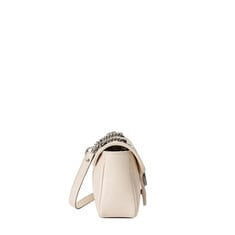Gucci: (72, 132, 148, 218)
